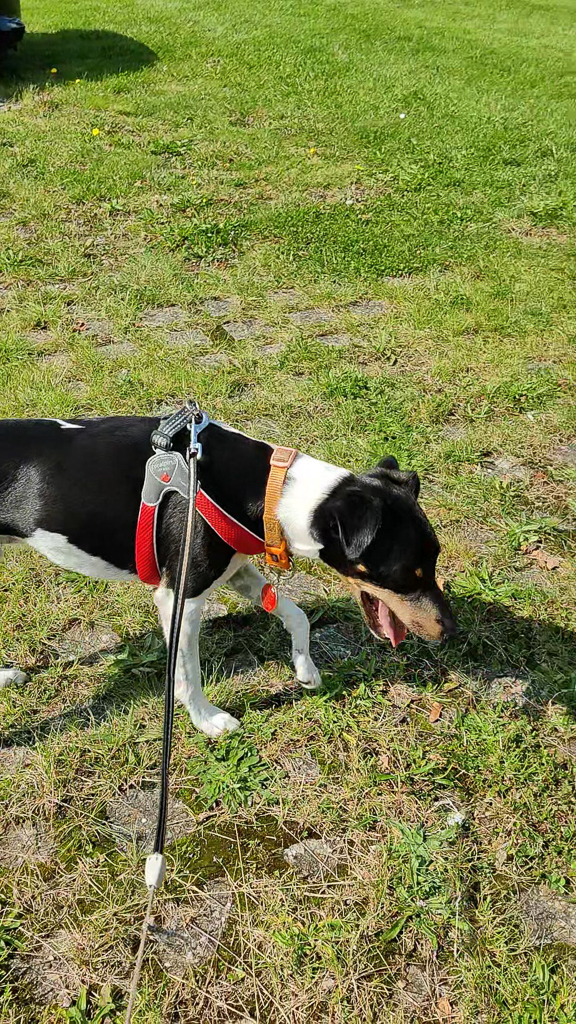Dog: (0, 372, 471, 754)
